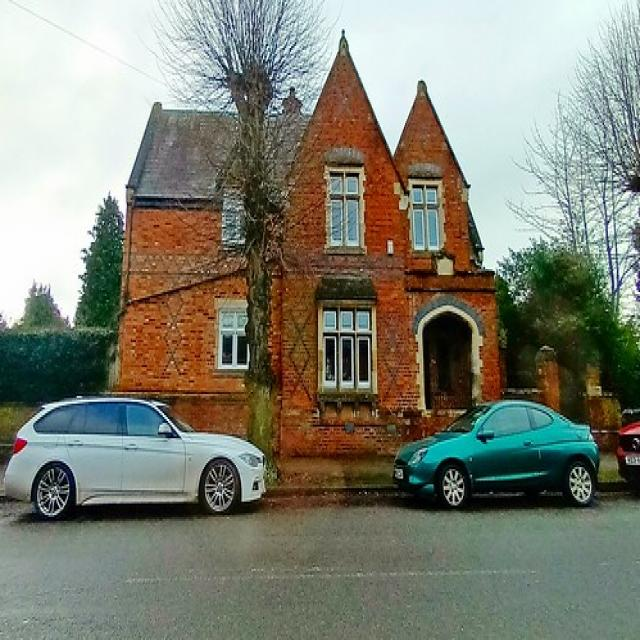Normal_building: (110, 26, 504, 493)
